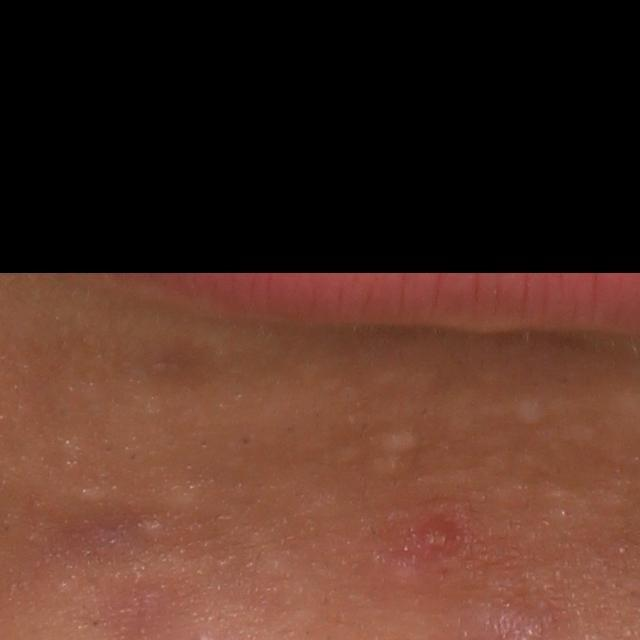hypertrophic_scar: (421, 383, 512, 433), (371, 358, 450, 390), (483, 472, 542, 514), (159, 476, 211, 512), (364, 452, 419, 479), (375, 429, 428, 454), (515, 393, 549, 426), (78, 485, 110, 504), (143, 519, 165, 536)
papule: (406, 509, 482, 568)
